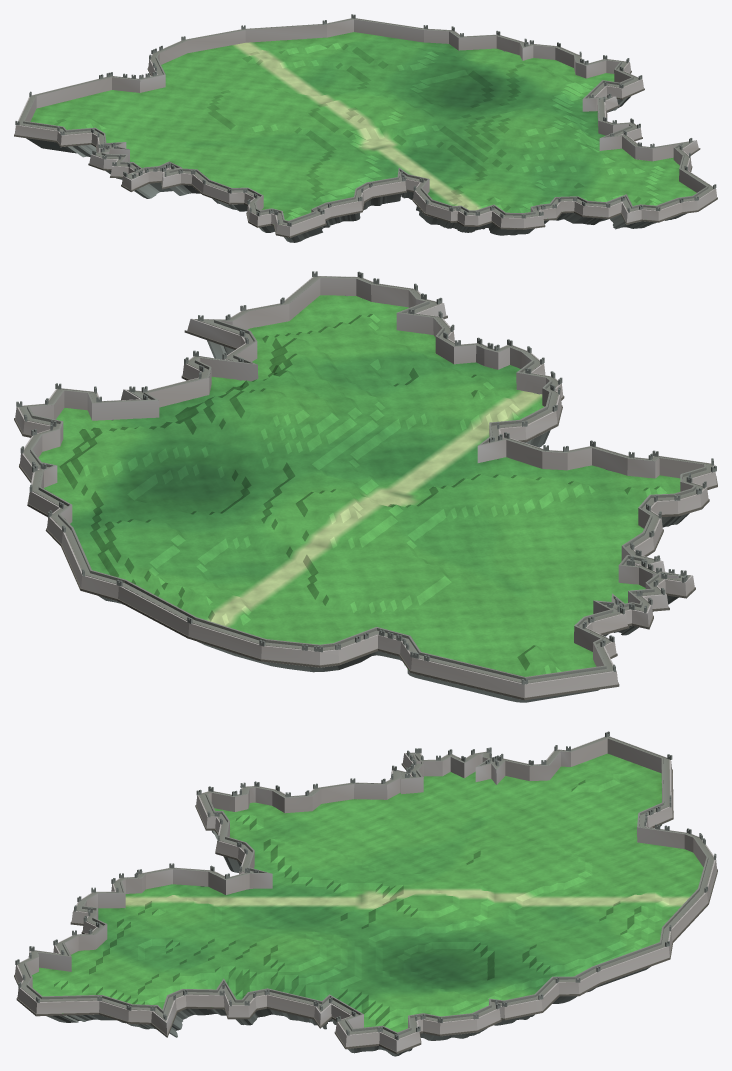
The picture shows the model from 3 angles, top to bottom: view 1: azimuth 30°, elevation 25°; view 2: azimuth 150°, elevation 25°; view 3: azimuth 270°, elevation 25°; orthographic projection. The views are drawn at different scales.
Parts seen in each view (by area): view 1: ground_359cac3a; view 2: ground_359cac3a; view 3: ground_359cac3a.
Boxes of the visible parts, box(x1,y1,x2,y2) form: ground_359cac3a: box(14, 14, 717, 242); ground_359cac3a: box(14, 271, 717, 702); ground_359cac3a: box(14, 731, 717, 1056).
Bounding box in the file's own units: 156 × 8.15 × 151.
3 materials, 1 textured.
